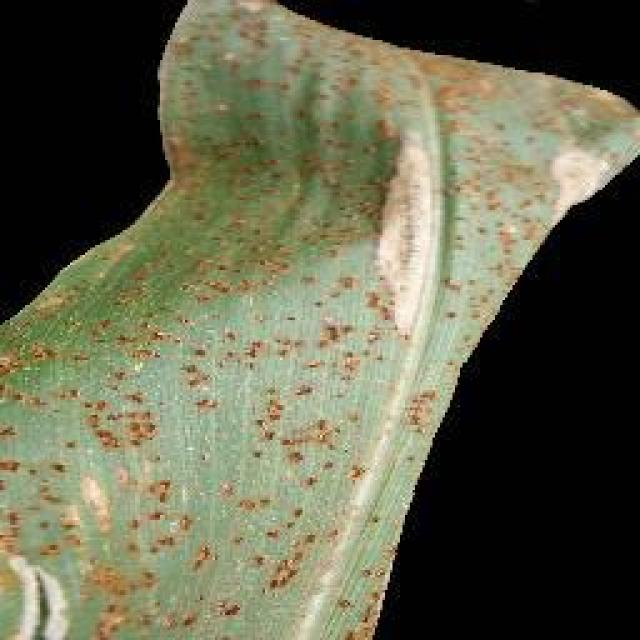Corn Common Rust: (110, 104, 500, 508)
